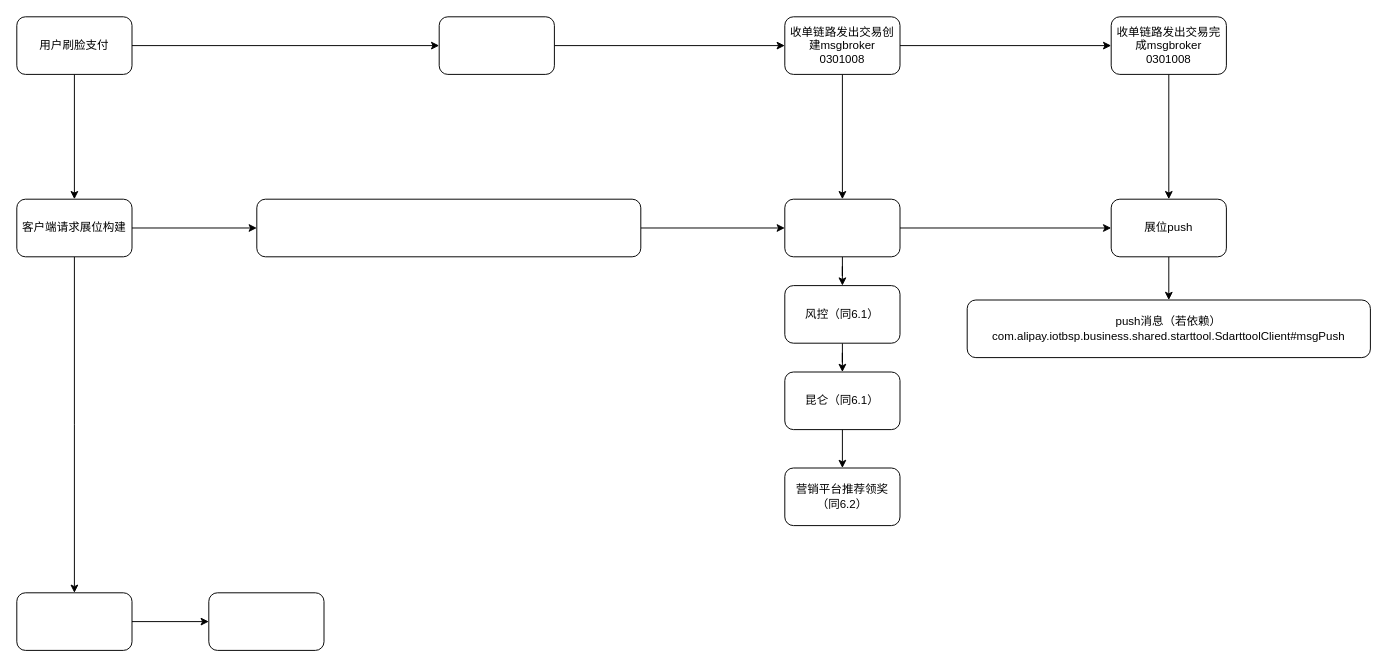
The diagram is 1387 pixels wide and 667 high, and some of its shapes have lost their labels. The shapes that lost their labels are listed below. From the top down, each one's centre as x and y in pixels, then its label:
At point 496,45: "刷脸抽奖贴纸（运营平台）".
At point 448,227: "iothub com.alipay.iotbsp.business.endpoint.iothub.BoothFacadeImpl#build".
At point 842,227: "展位构建".
At point 74,621: "用户点击领取".
